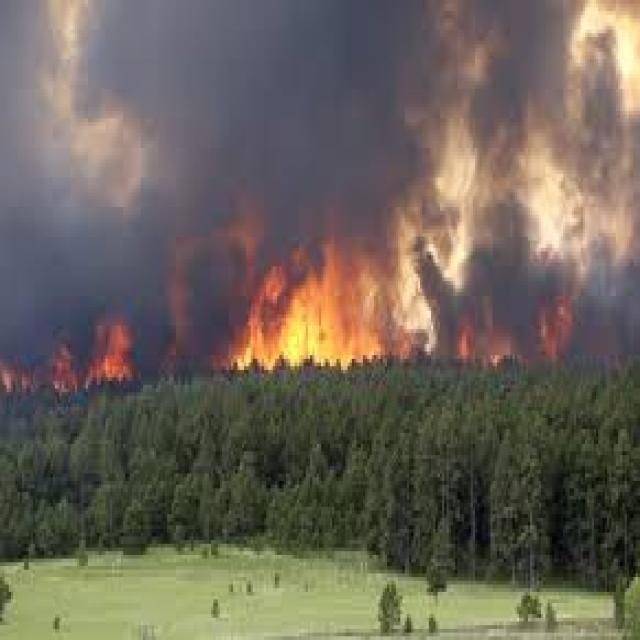Fire: (222, 254, 416, 370), (90, 325, 134, 383), (51, 347, 75, 392)
Smoke: (0, 0, 640, 322)
